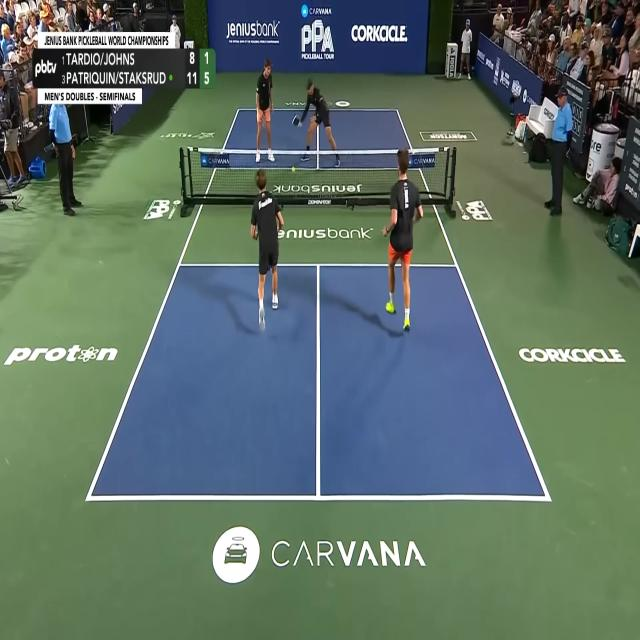ball: (292, 165, 296, 173)
